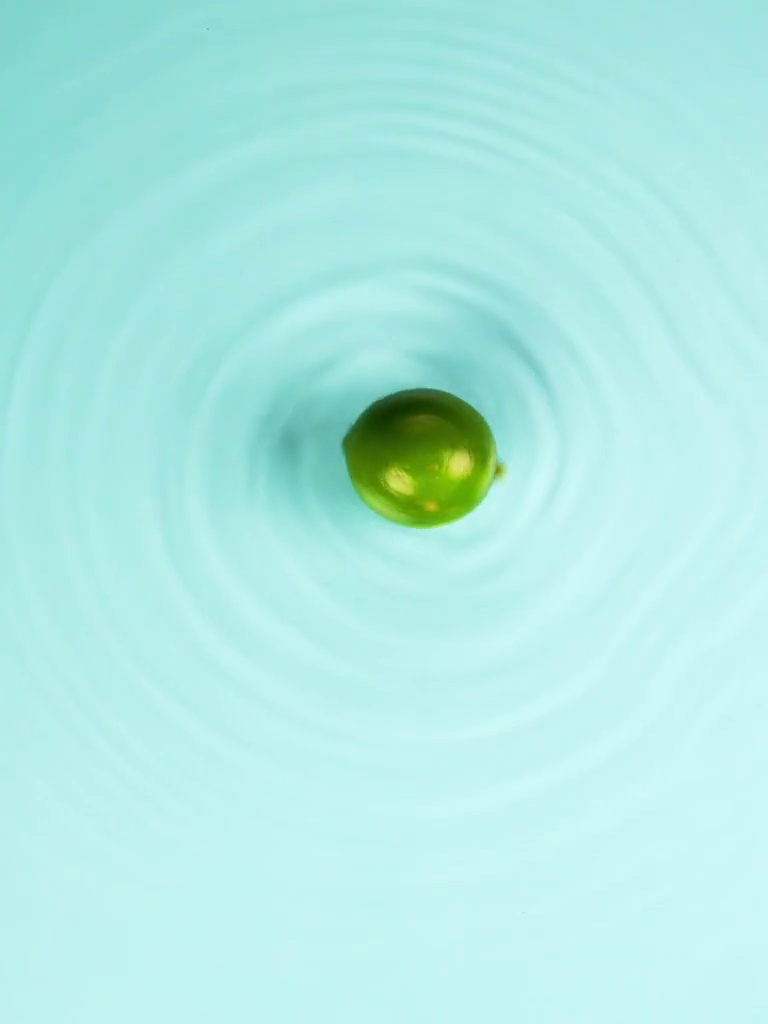Orange: (324, 385, 501, 532)
